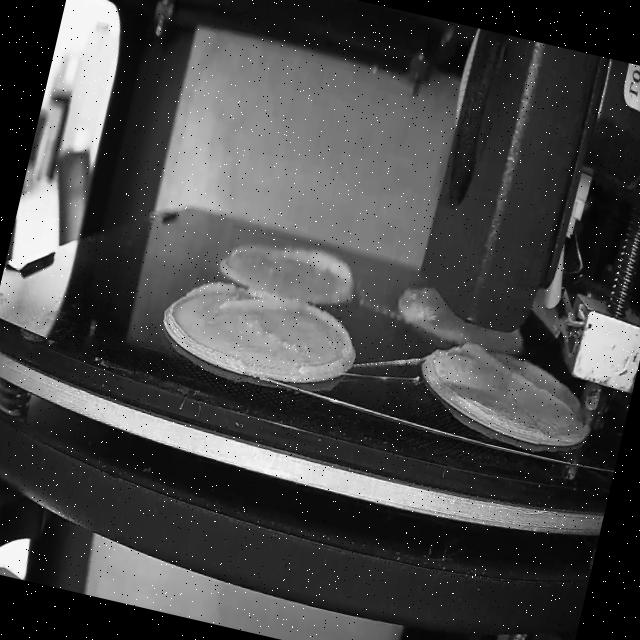over_extrusion: (450, 338, 580, 416), (182, 274, 303, 331), (291, 302, 361, 381), (276, 242, 361, 298)
